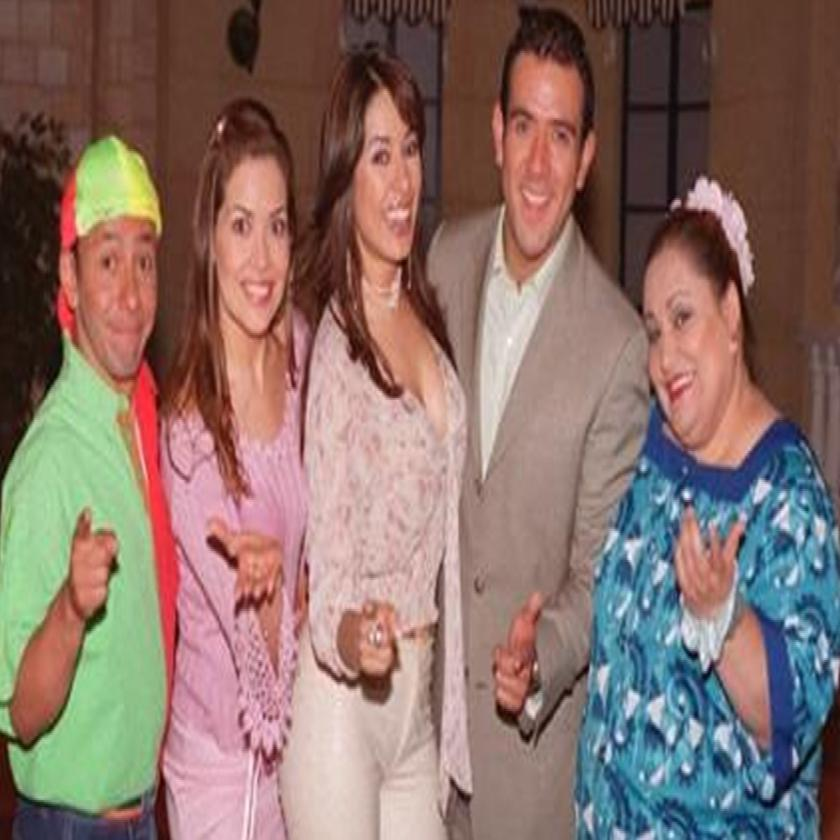Sin_casco: (627, 136, 787, 474), (190, 73, 300, 355), (321, 26, 436, 291), (486, 0, 599, 255)
